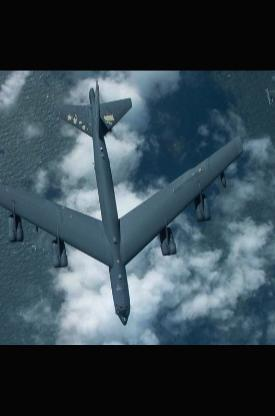B2: (0, 77, 242, 326)
F14: (261, 70, 273, 134)
